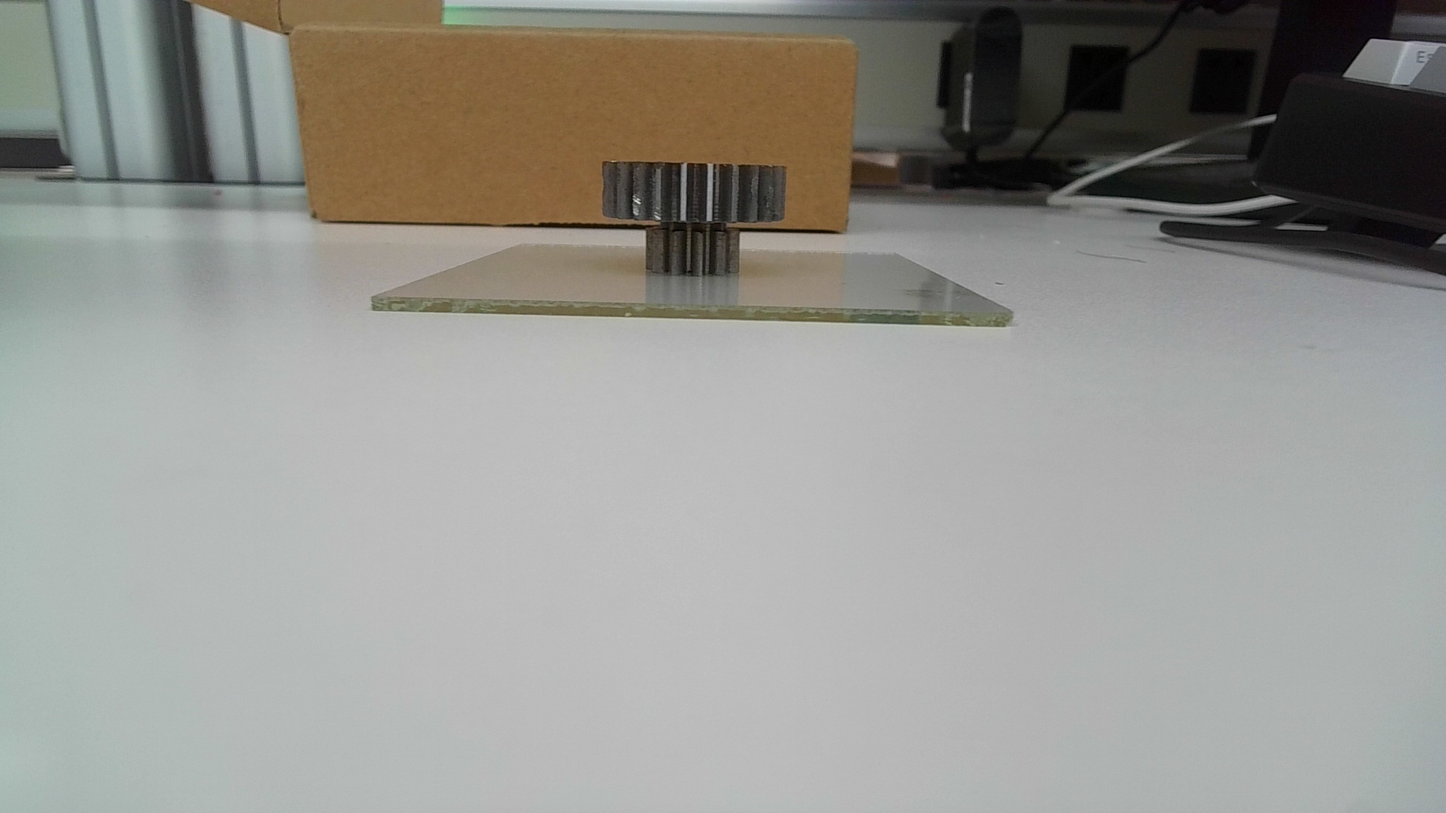gear: (600, 156, 789, 282)
